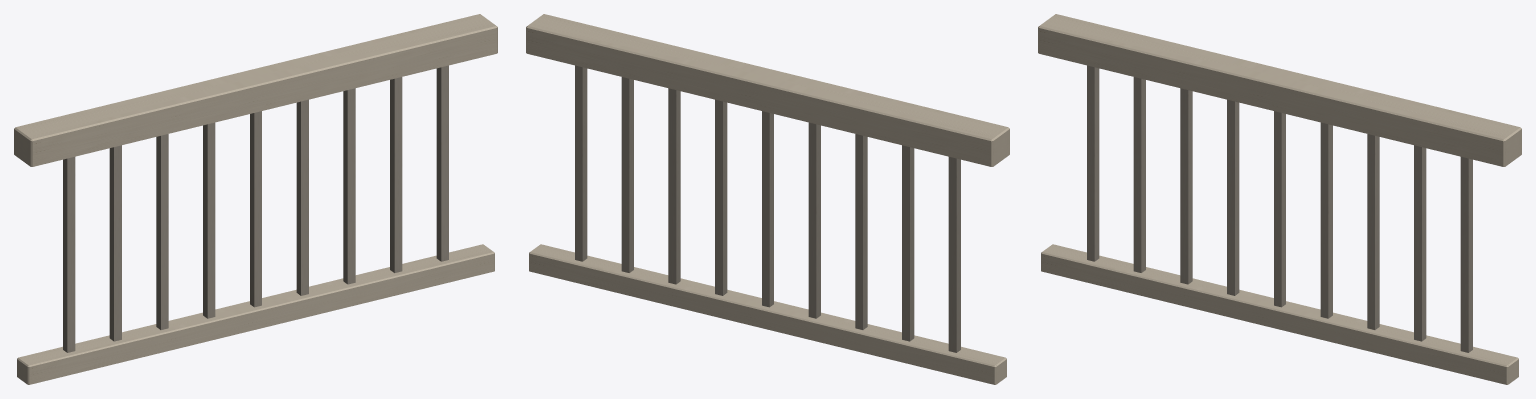
Rendered from porch_railing_straight.glb.
3 renders of one model, left to right at view 1: azimuth 30°, elevation 25°; view 2: azimuth 150°, elevation 25°; view 3: azimuth 330°, elevation 25°, orthographic.
Parts seen in each view (by area): view 1: outdoor_porch_railing_straight; view 2: outdoor_porch_railing_straight; view 3: outdoor_porch_railing_straight.
Part boxes in pixels (left/top/right/bottom): outdoor_porch_railing_straight: left=14, top=14, right=497, bottom=384; outdoor_porch_railing_straight: left=526, top=14, right=1009, bottom=384; outdoor_porch_railing_straight: left=1038, top=14, right=1521, bottom=384.
Bounding box in the file's own units: 1.8 × 0.91 × 0.12.
Materials: 2 (2 with a texture image).
